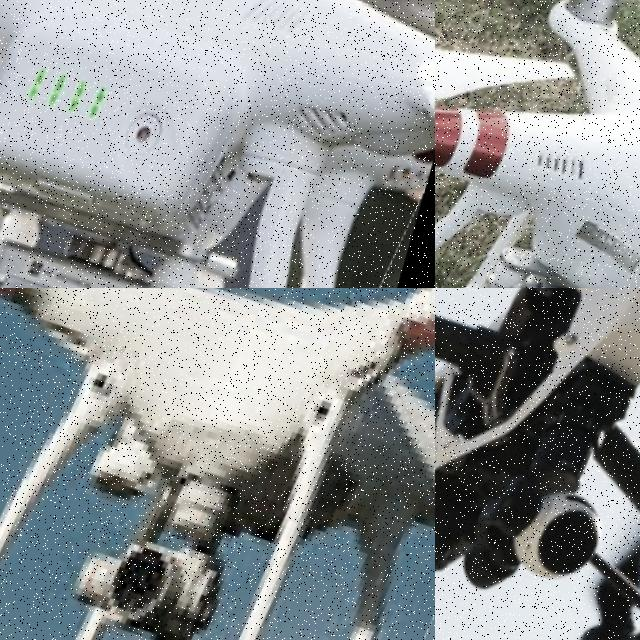drone: (0, 288, 435, 640), (0, 0, 435, 288), (435, 288, 640, 640), (435, 0, 640, 288)
